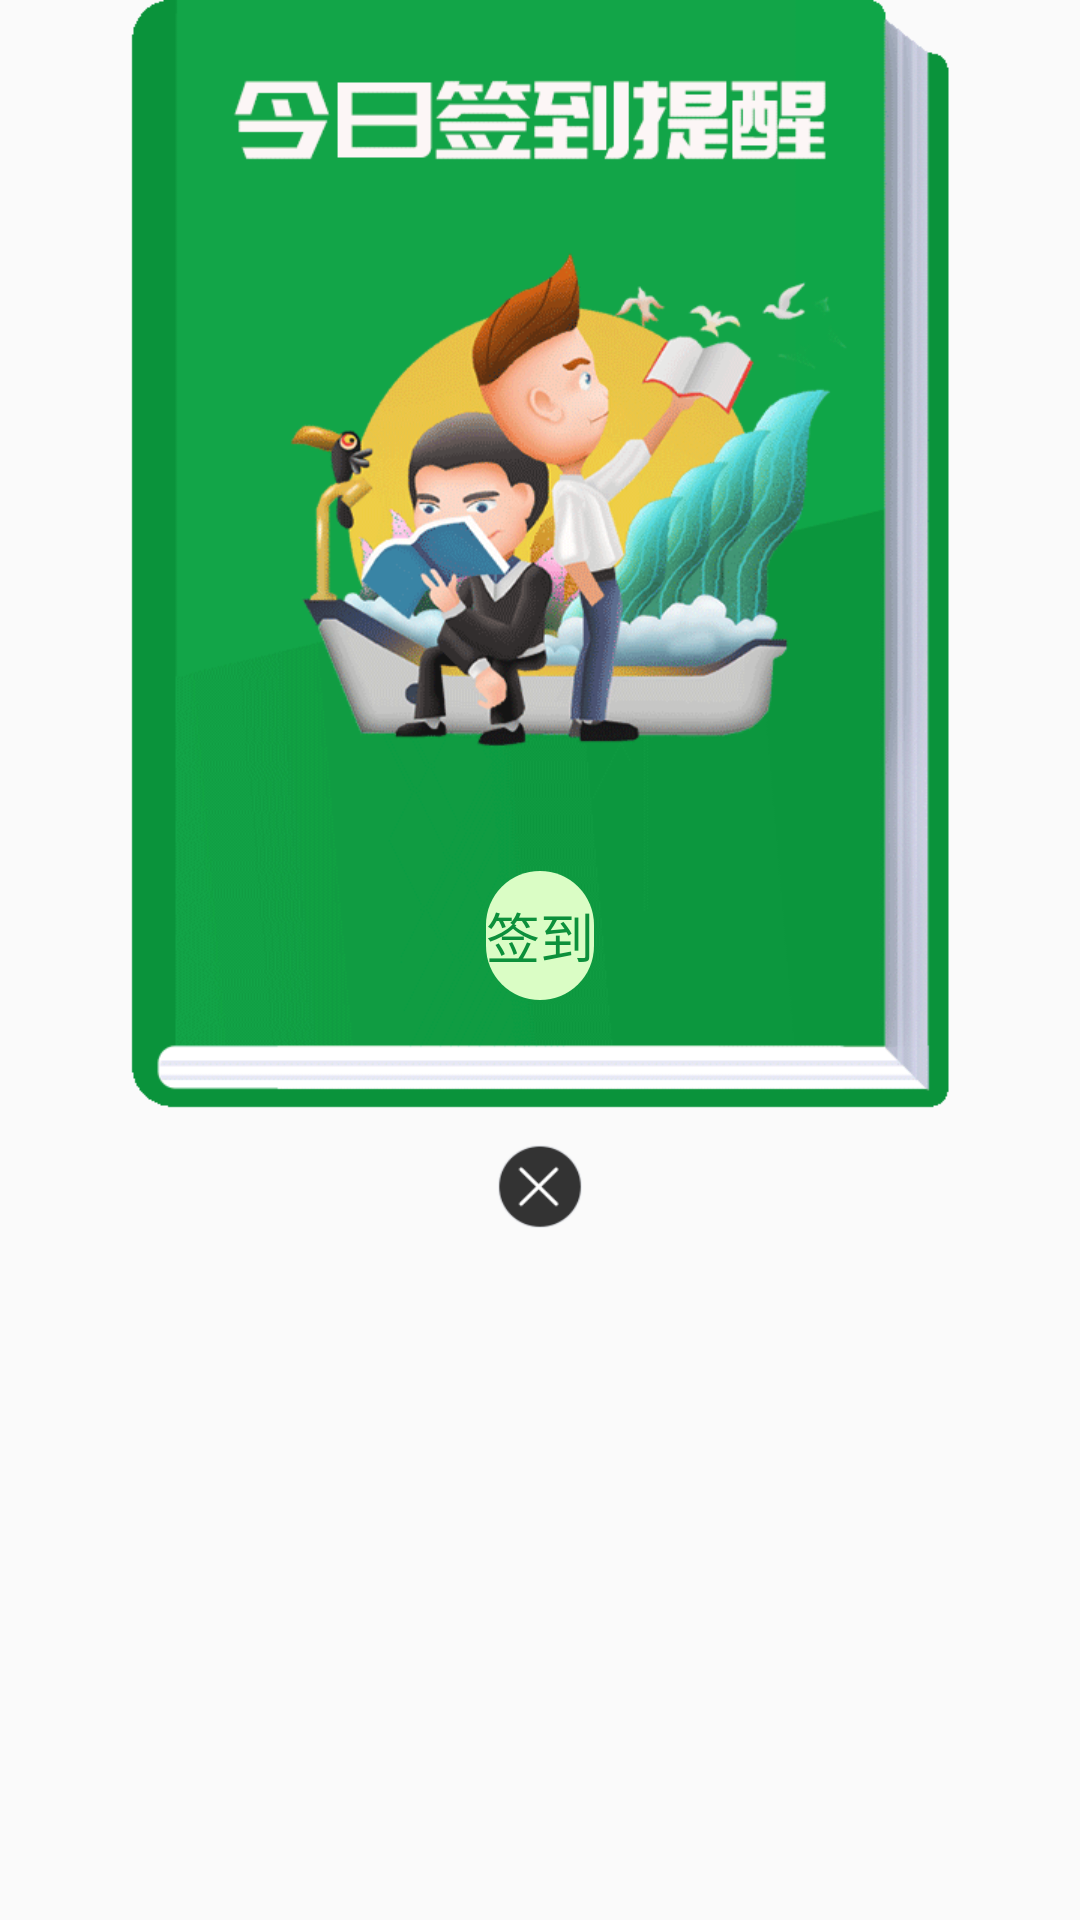

Named icons in this screenshot (1080x1920) and their bounding boxes, (x1, y1, x2, y2):
cacel: (499, 1146, 581, 1227)
